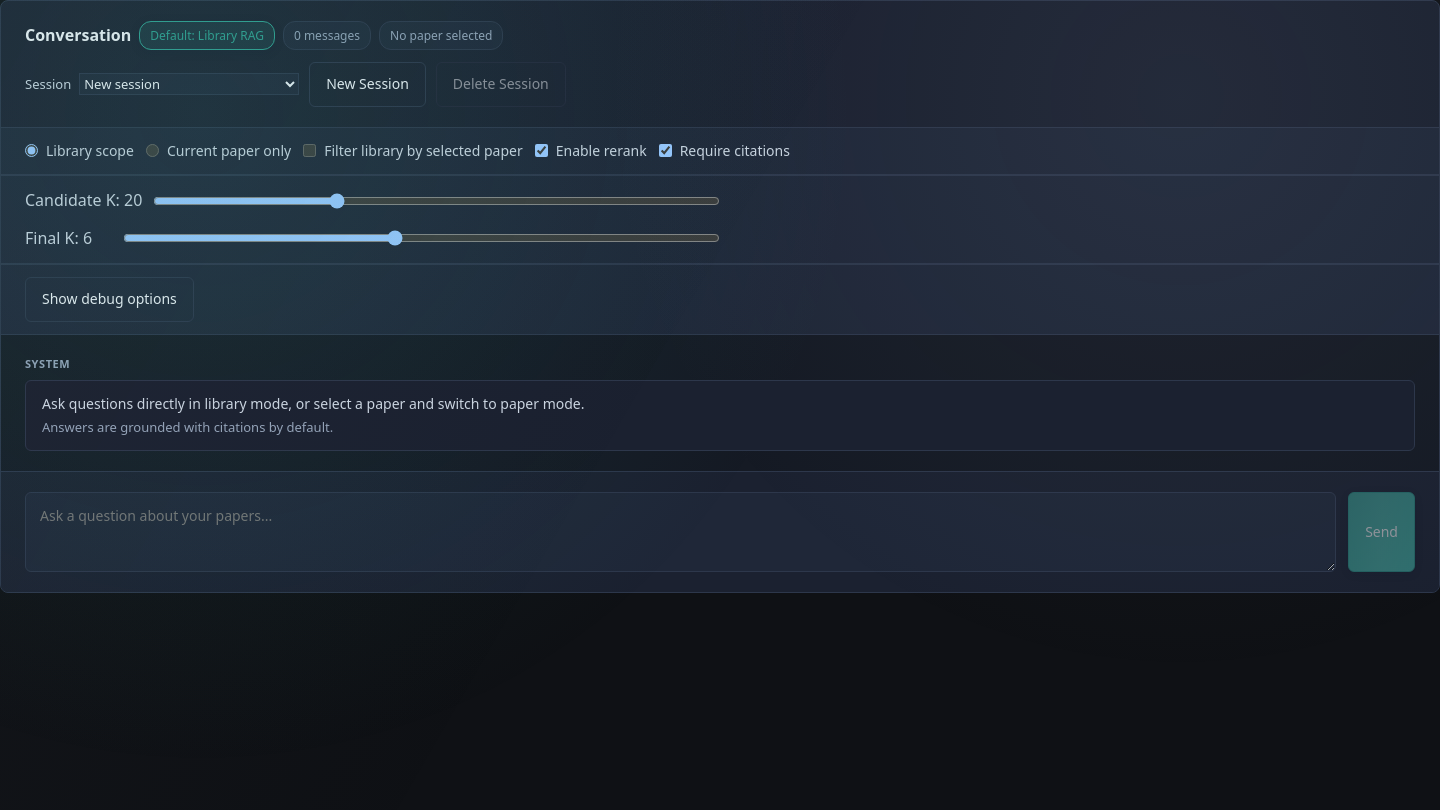
Scenario: ChatPanel › sends library-scope payload without selected paper
Type "What is new?" into the text box with placeholder "Ask a question about your papers..." at (681, 532), box x1=25 y1=492 x2=1336 y2=572
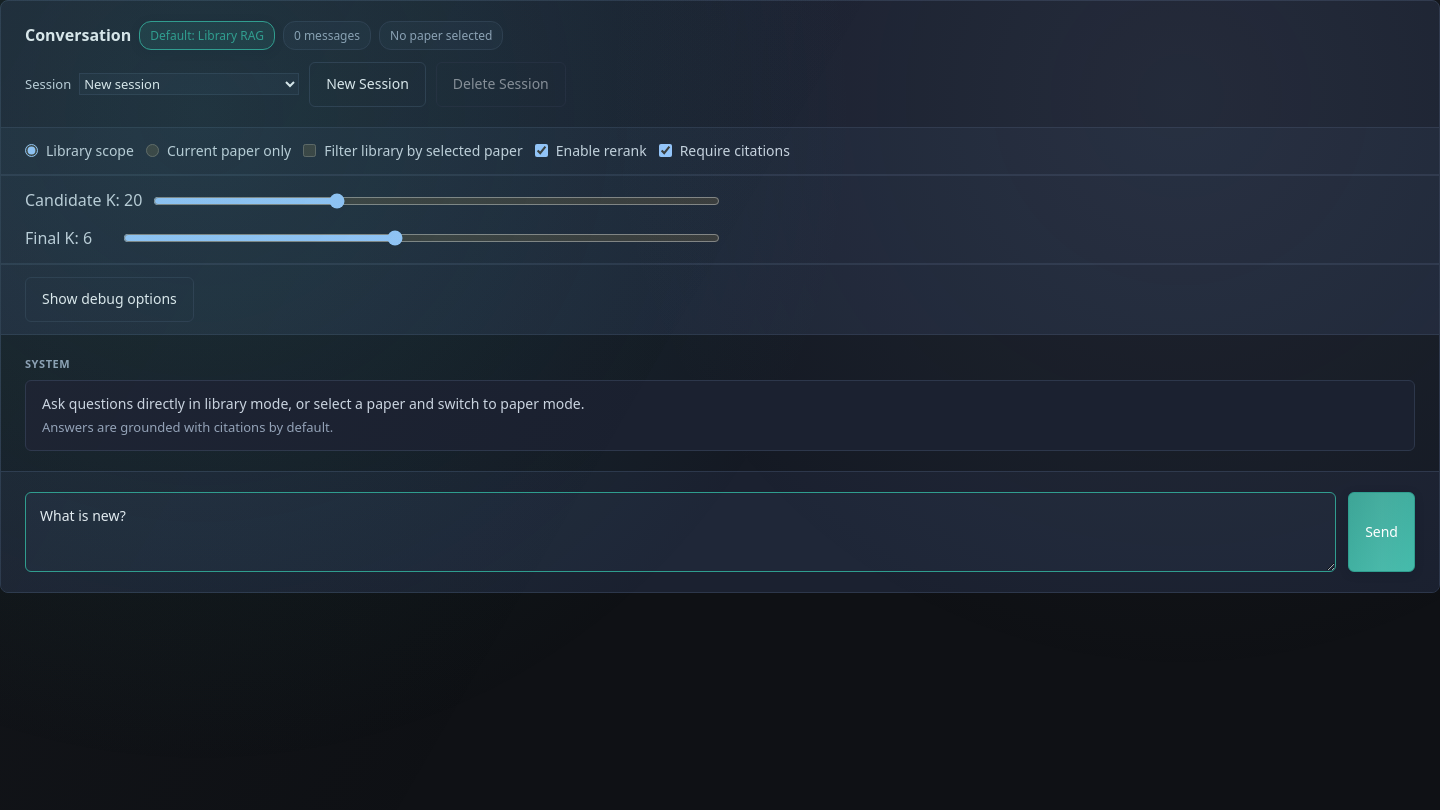
Click the button "Send" at (1382, 532), box x1=1348 y1=492 x2=1415 y2=572
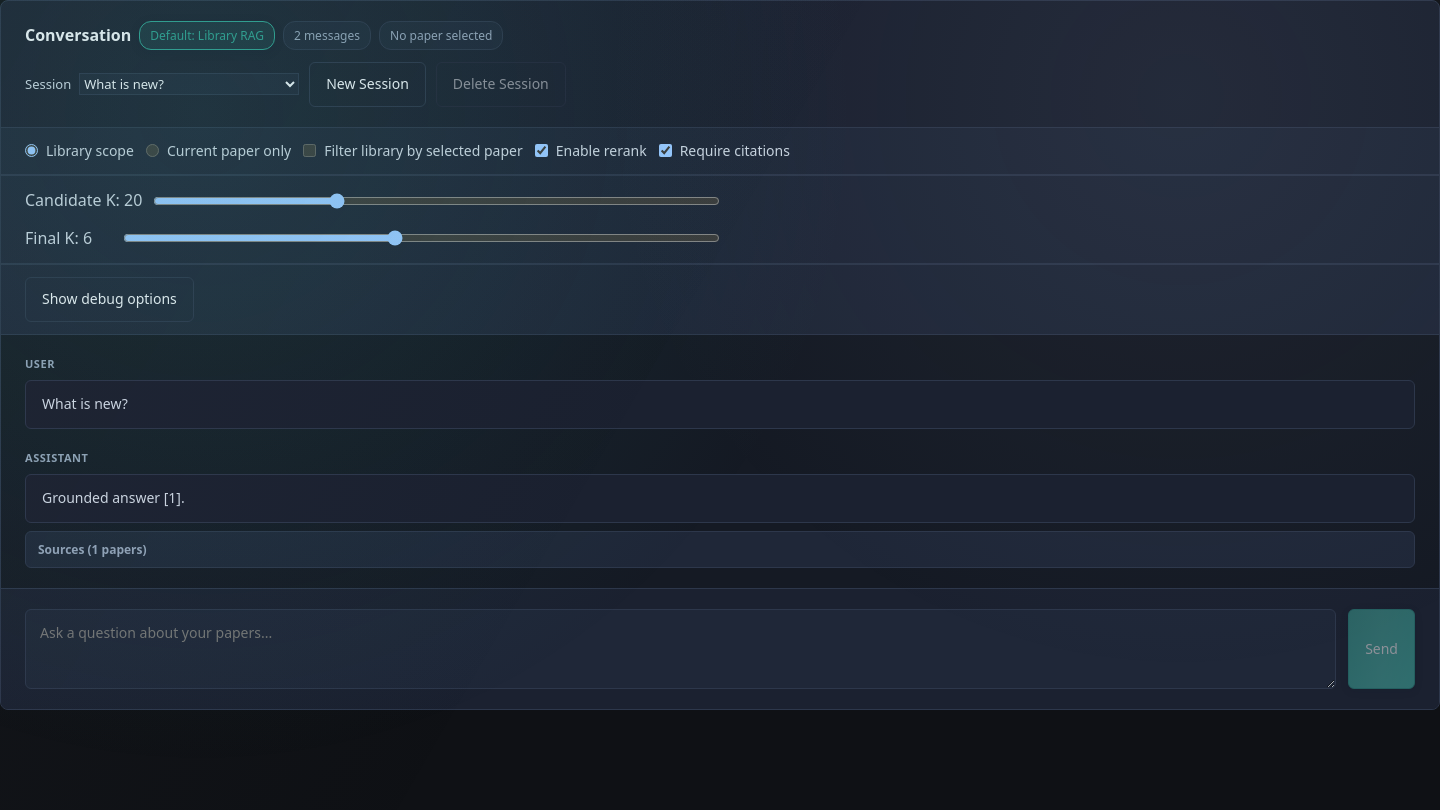
Expected: the text "Grounded answer [1]." is shown, x1=25 y1=474 x2=1415 y2=522
